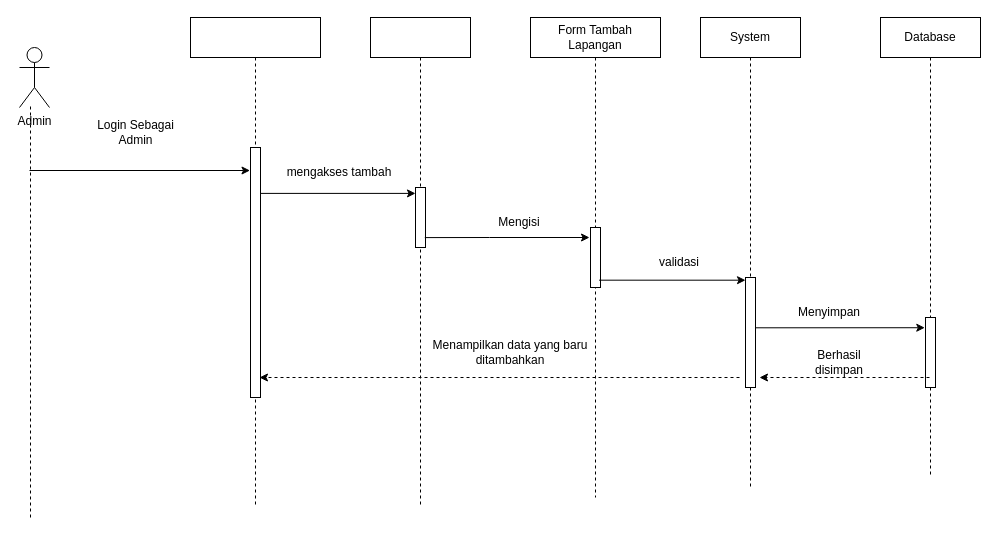
The diagram is 998 pixels wide and 536 high, and some of its shapes have lost their labels. The shapes that lost their labels are listed below. From the top down, each one's box as (x1, y1, x2, y2) in pixels, then its label:
(190, 16, 320, 508): Dashboard admin
(370, 16, 470, 508): Halaman Tambah Lapangan
